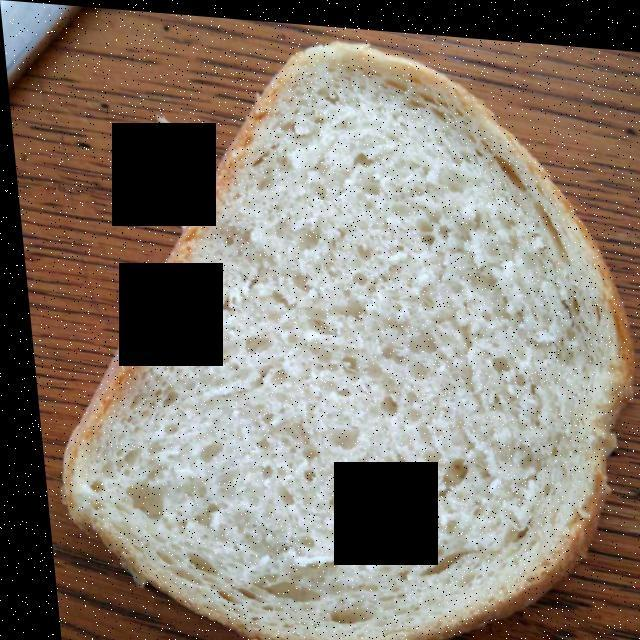bread: (61, 50, 620, 639)
